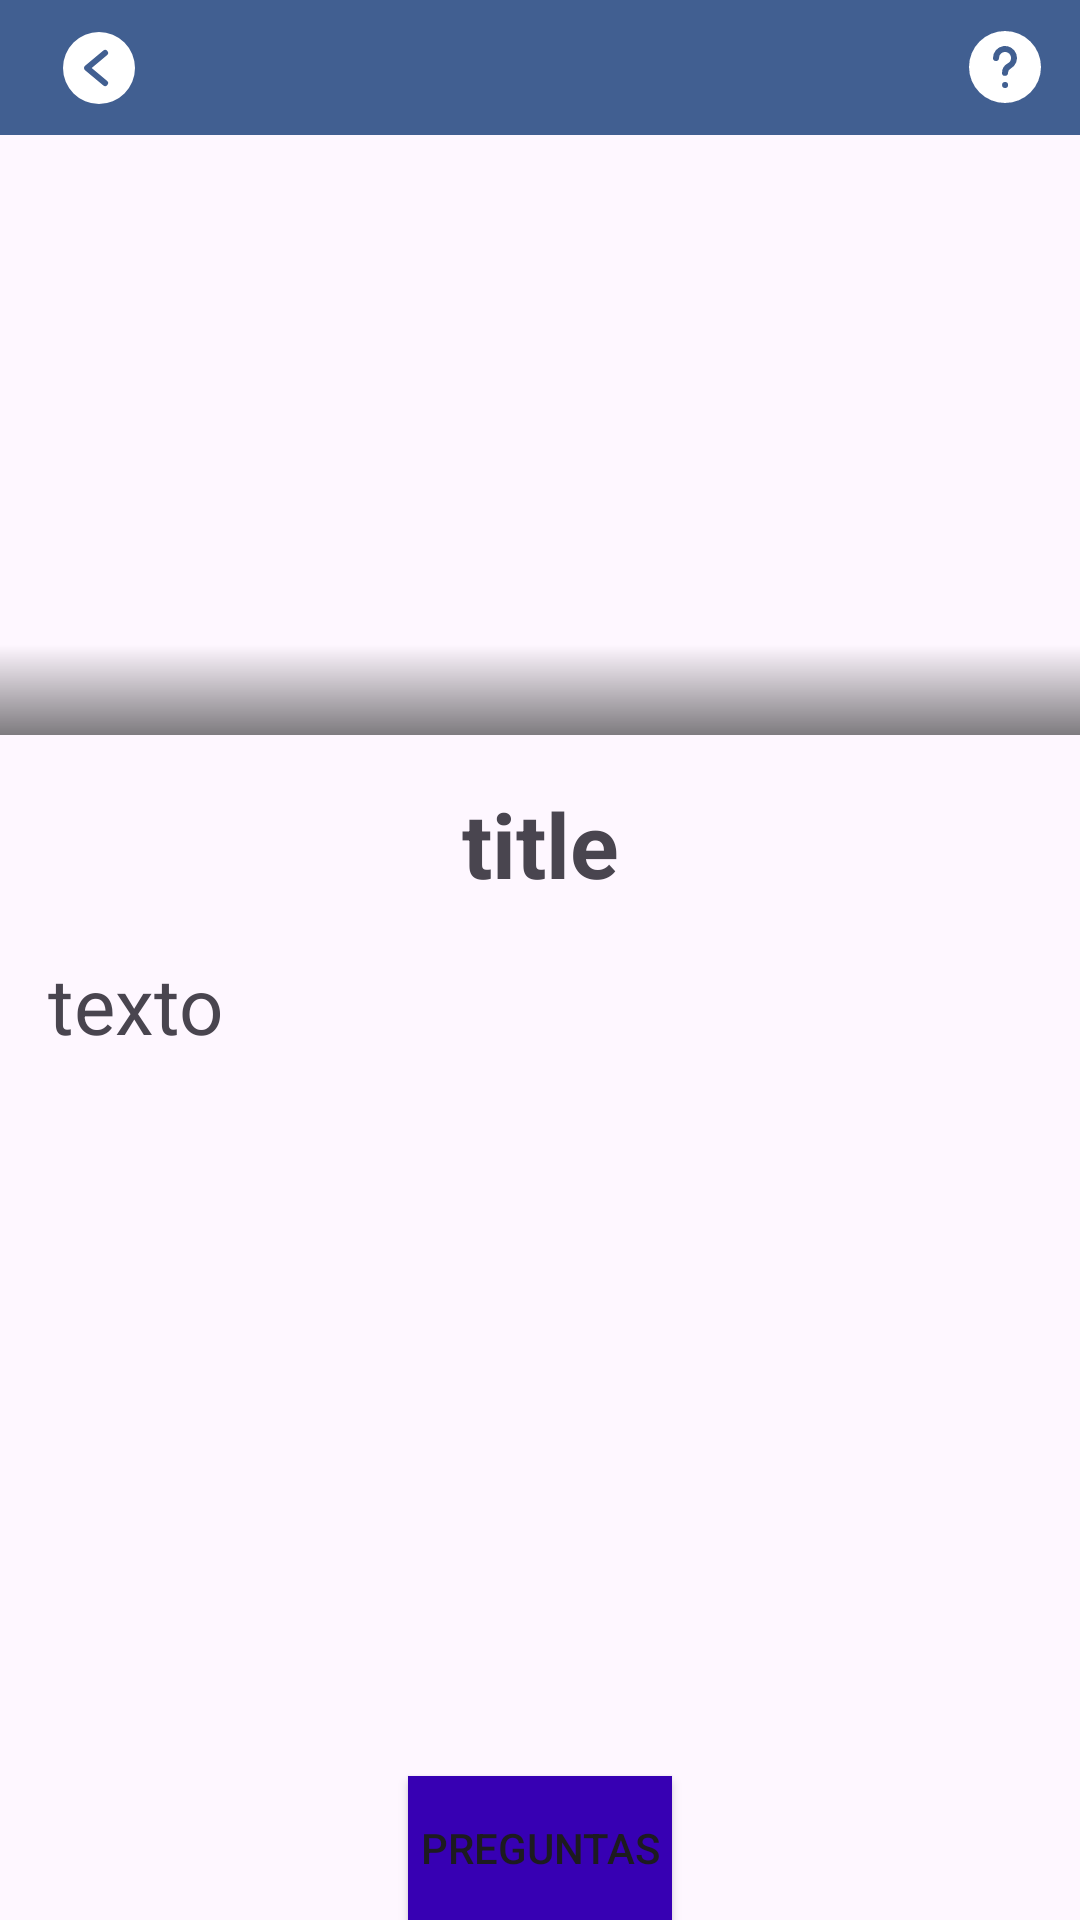

Icon bounding boxes for this 1080*1920 phone screenshot, format rect(x1, y1, x2, y2):
help: rect(969, 31, 1041, 103)
